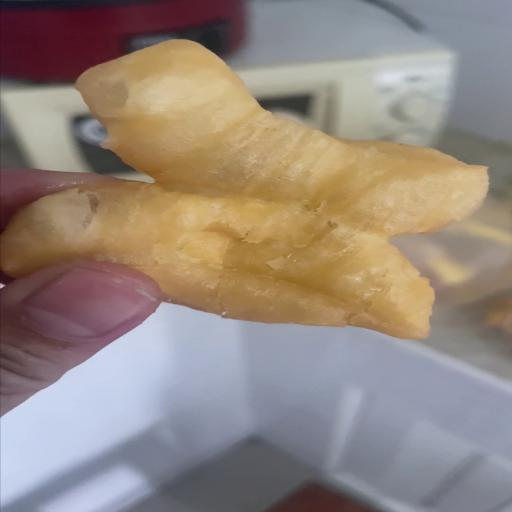street_golden_defect: (3, 42, 491, 347)
